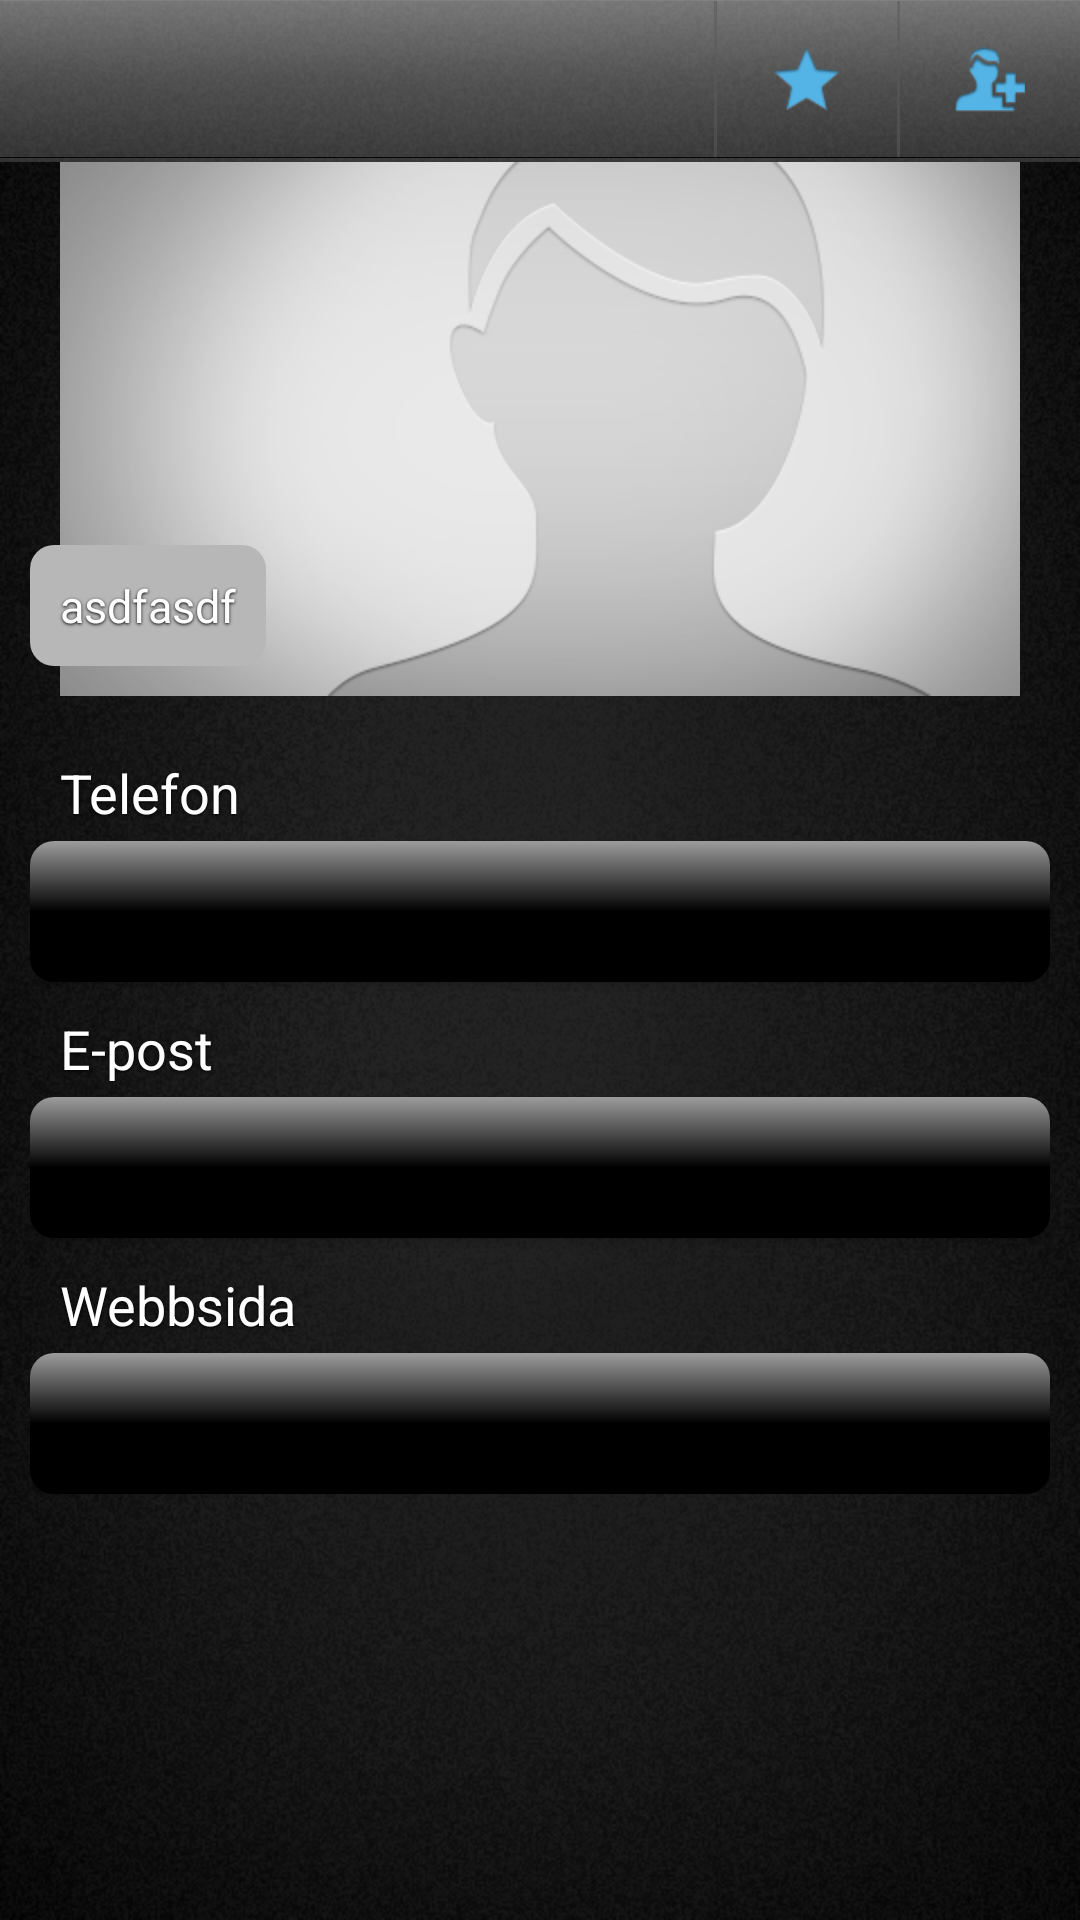

Where to tap for icons on this 1080×1920 app screen, as (x=x, y=y):
add contact: (x=990, y=79)
contact favorite: (x=807, y=79)
